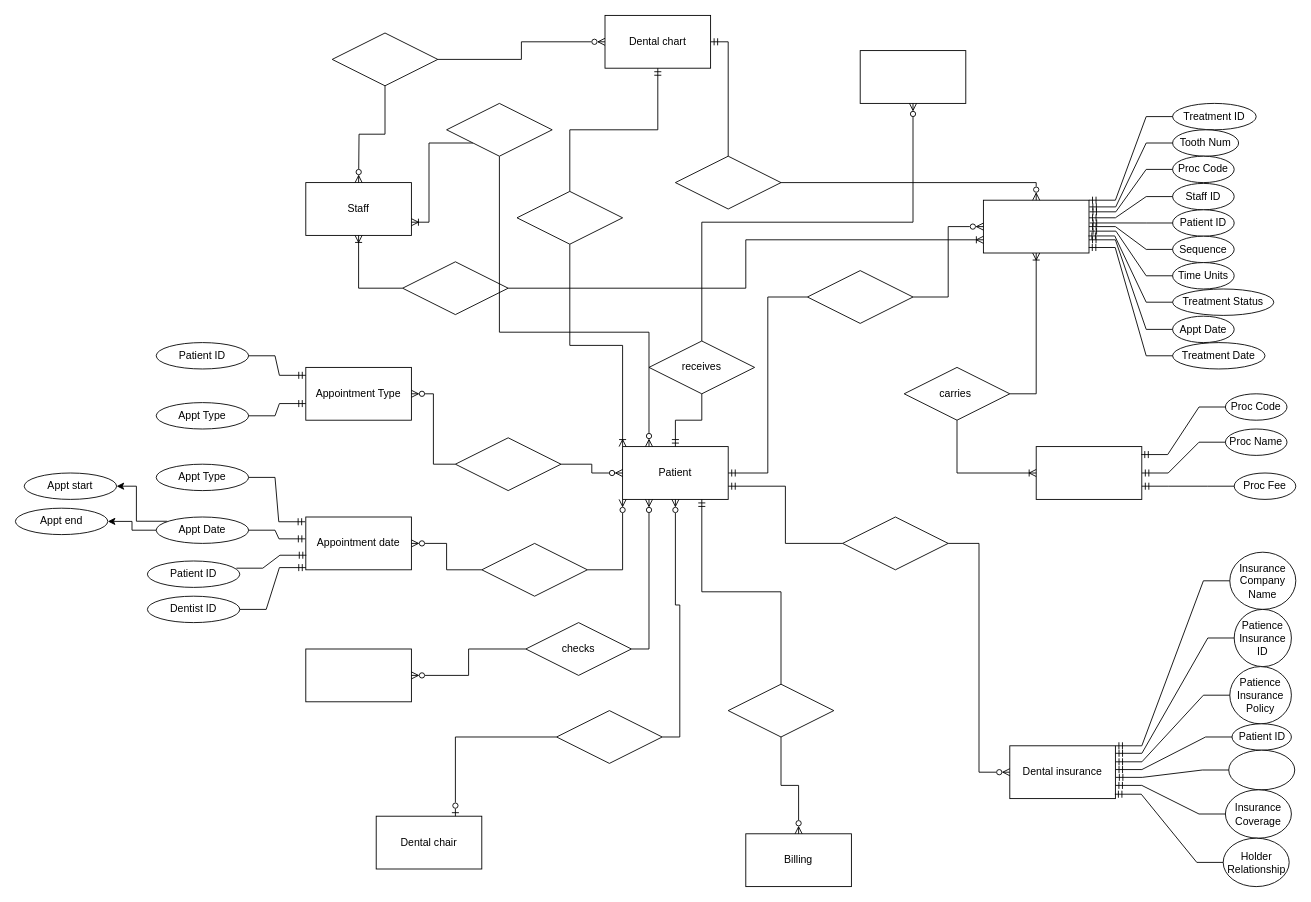
This 1311x902 diagram has some shape labels left out. Each missing label, with the centre of its shape:
arrives/leaves: the point at 534,569
assists: the point at 499,129
check in: the point at 358,675
gets: the point at 508,464
have: the point at 860,296
holds: the point at 728,182
Insurance Status: the point at 1261,769
is subscribed: the point at 895,543
Lab prescriptions: the point at 912,76
linked to: the point at 384,59
owns: the point at 569,217
pays: the point at 780,710
Procedures: the point at 1088,472
responsible: the point at 455,288
sets: the point at 609,736
Treatment plan: the point at 1036,226
